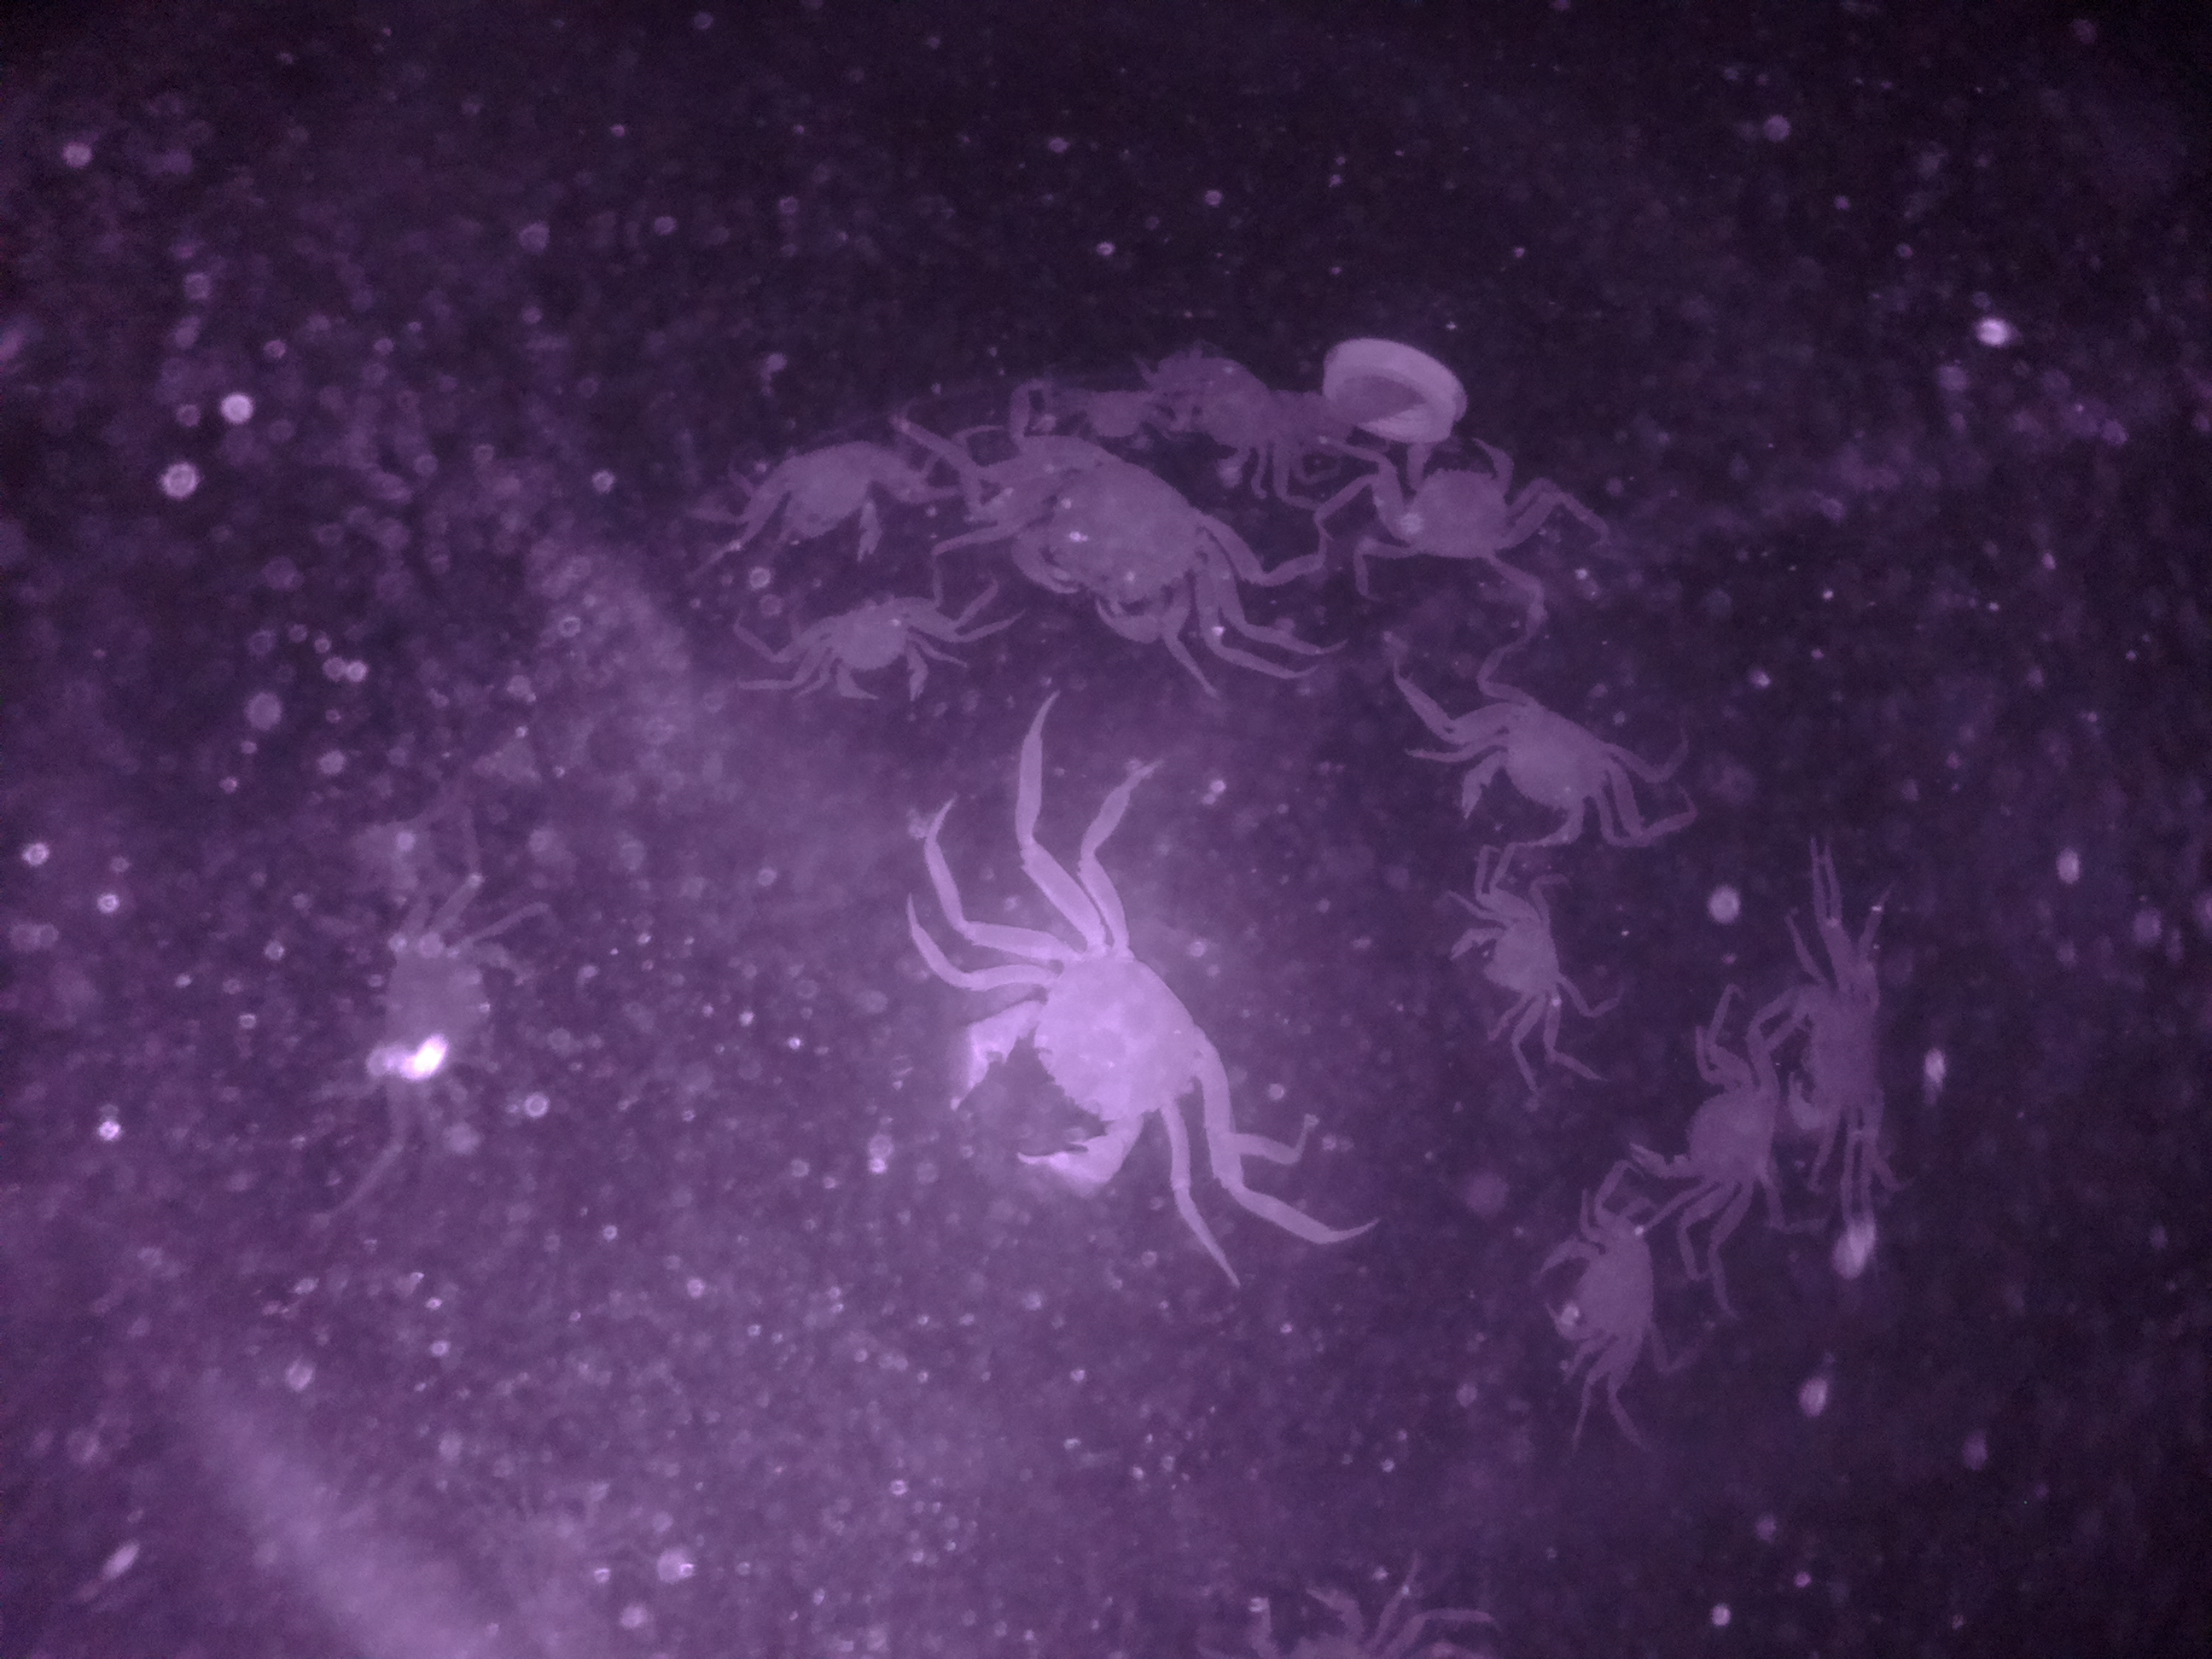Crab: (925, 911, 1254, 1194), (977, 429, 1266, 652), (1428, 685, 1642, 857), (1359, 416, 1538, 565), (1526, 1208, 1676, 1382), (1771, 946, 1902, 1140), (798, 579, 961, 713), (1446, 889, 1566, 1035)
